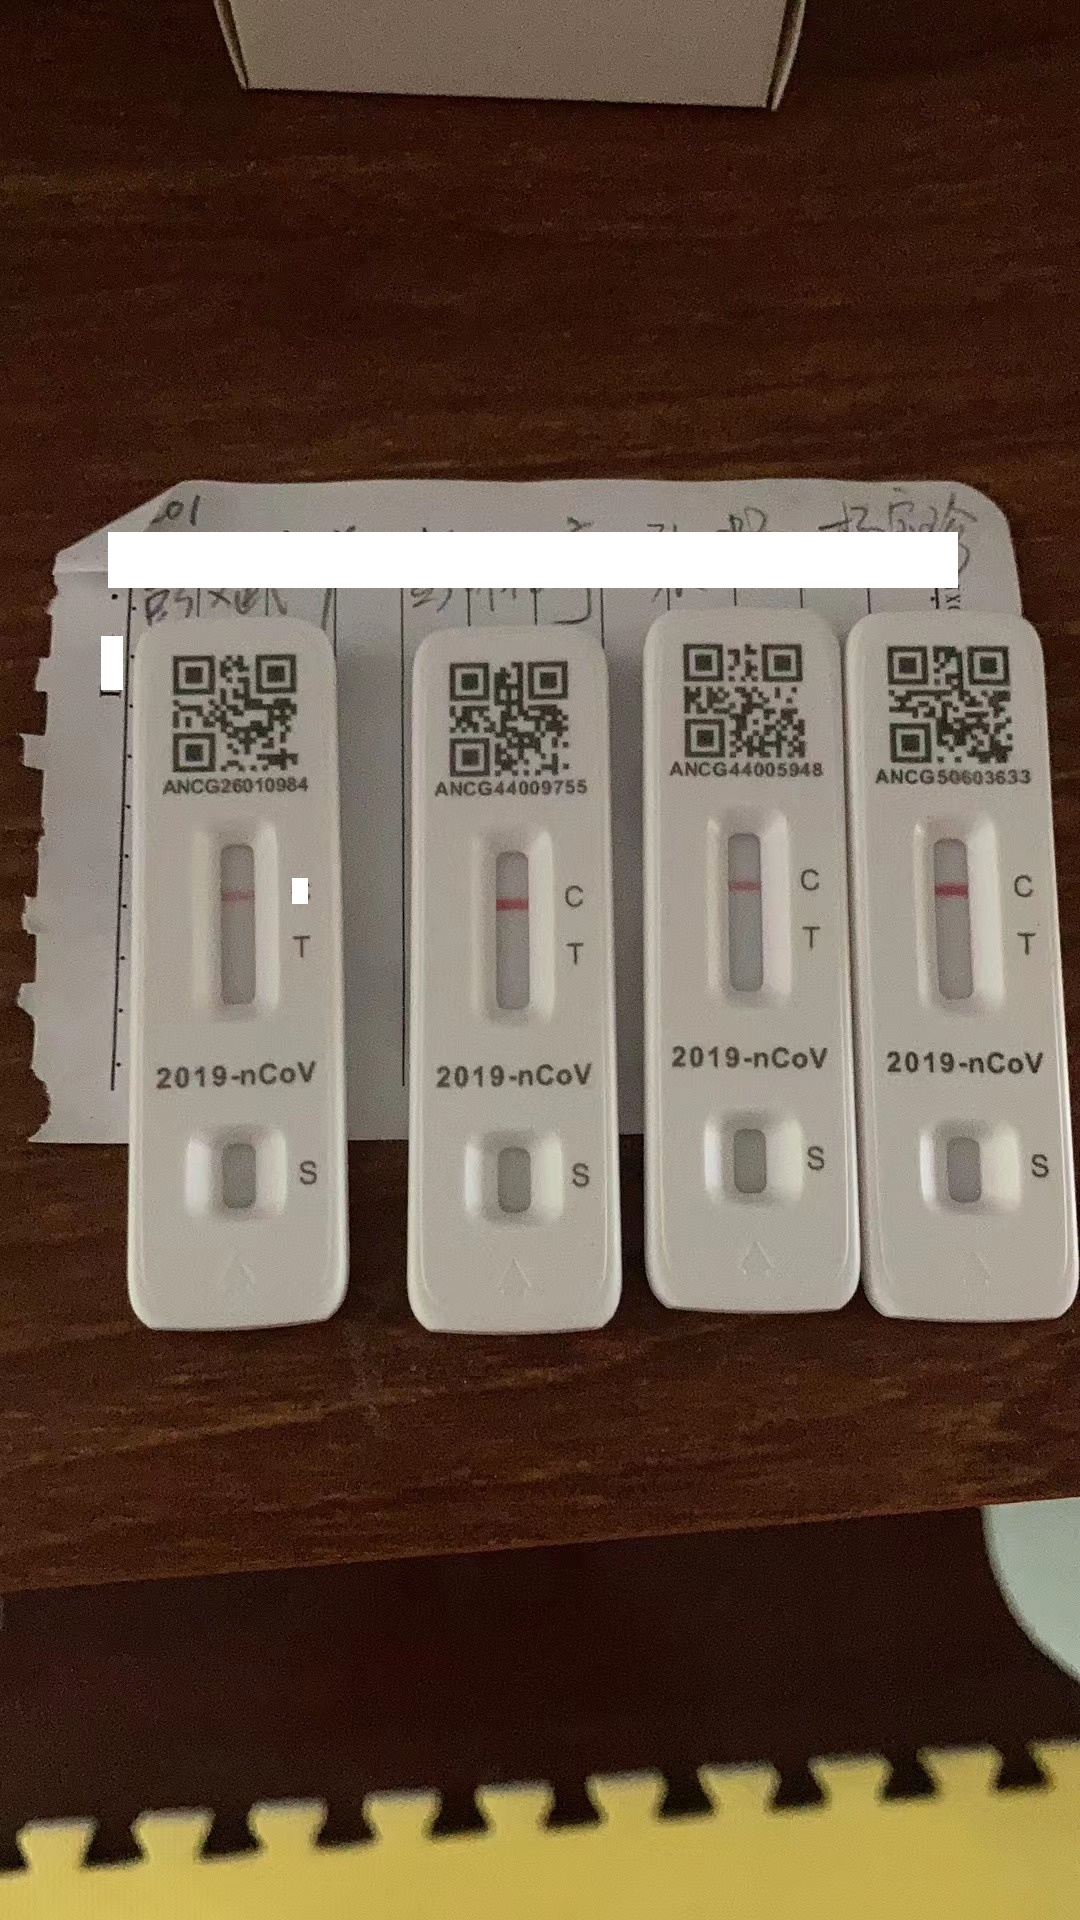negative: (913, 811, 994, 1018), (705, 808, 787, 1007), (473, 825, 551, 1027), (200, 820, 278, 1021)
